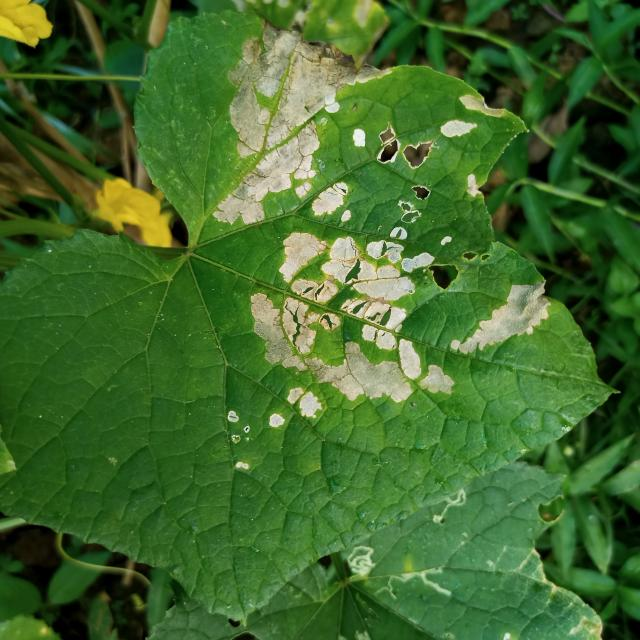disease_cucumber: (201, 17, 518, 232), (250, 224, 556, 434), (220, 402, 258, 473)
